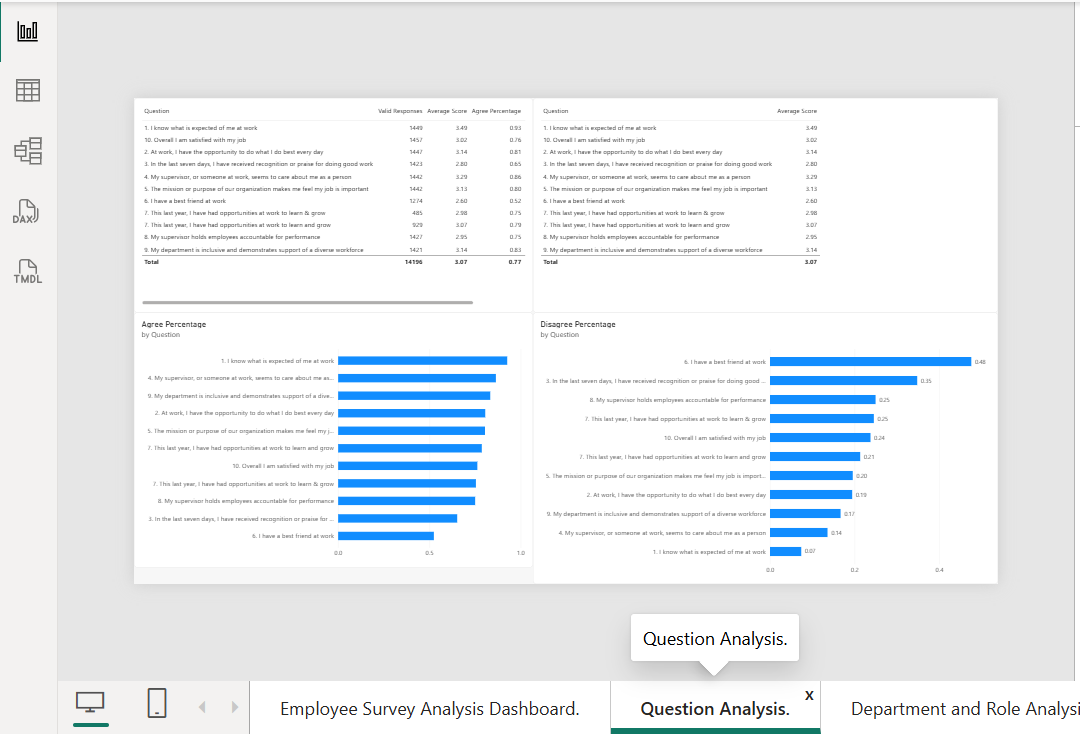

The page's visual inventory and layout, read from the dashboard file:
{"tool":"powerbi","page":{"name":"Question Analysis.","canvas":[1920,1080],"ordinal":1},"visuals":[{"type":"clusteredBarChart","fields":{"Category":["HR Survey Reponses.Question"],"Y":["Data Dictionary.Agree Percentage"]},"box":[0,476.7,886.7,566.7],"z":0},{"type":"clusteredBarChart","fields":{"Category":["HR Survey Reponses.Question"],"Y":["Data Dictionary.Disagree Percentage"]},"box":[886.7,476.7,1033.3,603.3],"z":1000},{"type":"tableEx","fields":{"Values":["HR Survey Reponses.Question","Data Dictionary.Average Score"]},"box":[886.7,0,1033.3,476.7],"z":2000},{"type":"tableEx","fields":{"Values":["HR Survey Reponses.Question","Data Dictionary.Valid Responses","Data Dictionary.Average Score","Data Dictionary.Agree Percentage","Data Dictionary.Disagree Percentage"]},"box":[0,0,886.7,476.7],"z":3000}]}

Visuals, with their boxes on the page's 1920x1080 design canvas (x1, y1, x2, y2). These are canvas units, not pixel positions in the 1080x734 screenshot, which may show the page scaled, cropped or inside an application window:
clusteredBarChart - HR Survey Reponses.Question x Data Dictionary.Agree Percentage: [0,477,887,1043]
clusteredBarChart - HR Survey Reponses.Question x Data Dictionary.Disagree Percentage: [887,477,1920,1080]
tableEx - HR Survey Reponses.Question x Data Dictionary.Average Score: [887,0,1920,477]
tableEx - HR Survey Reponses.Question x Data Dictionary.Valid Responses: [0,0,887,477]
